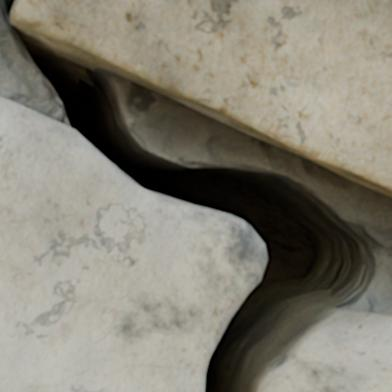brick: (11, 0, 391, 196)
broken_brick: (0, 96, 266, 391), (262, 309, 391, 391)
crack: (2, 0, 389, 391)
